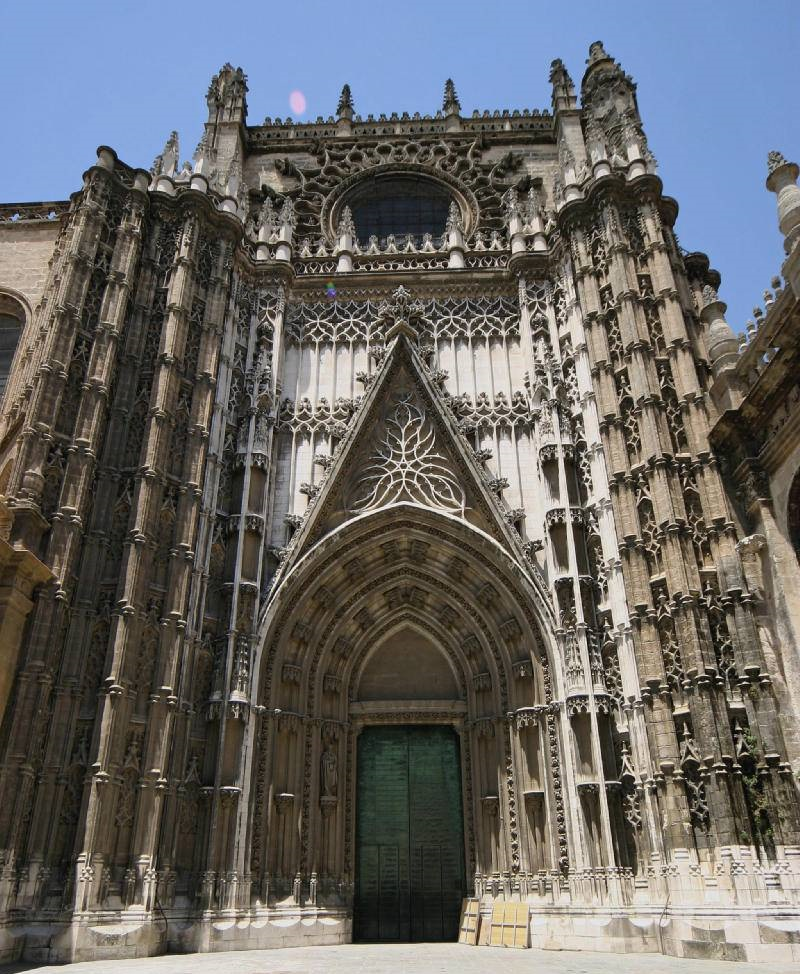arco-apuntado: (256, 498, 558, 702)
pinaculo-gotico: (333, 201, 357, 241), (334, 79, 358, 115), (256, 193, 277, 234), (278, 192, 299, 232), (444, 196, 465, 235), (440, 75, 462, 112)
